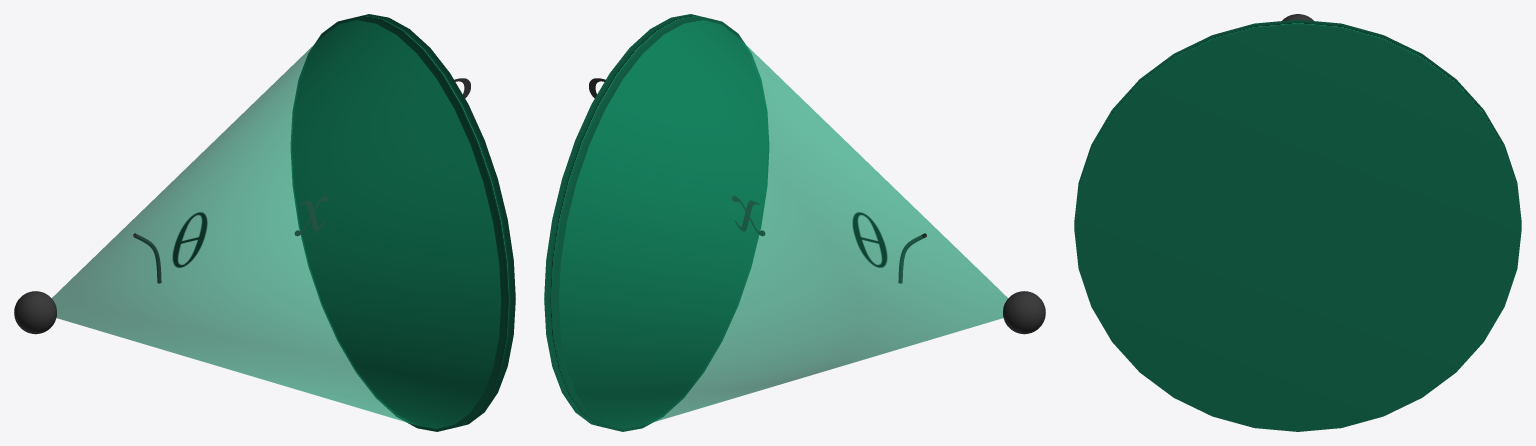
File: 20_Flux through disc with cone.glb
The picture shows the model from 3 angles, left to right: view 1: azimuth 30°, elevation 25°; view 2: azimuth 150°, elevation 25°; view 3: azimuth 270°, elevation 25°; orthographic projection. The views are drawn at different scales.
Visible parts, largest first — view 1: Cone, Cylinder.002, Sphere, Shape_3_Object 5; view 2: Cone, Cylinder.002, Sphere, Shape_3_Object 5; view 3: Cylinder.002.
Part boxes in pixels (box(x1,y1,x2,y2)): Cone: box(52, 20, 500, 428); Cylinder.002: box(291, 14, 515, 431); Sphere: box(14, 291, 56, 334); Shape_3_Object 5: box(172, 212, 207, 267); Cone: box(559, 20, 1007, 428); Cylinder.002: box(544, 14, 768, 431); Sphere: box(1003, 291, 1045, 334); Shape_3_Object 5: box(852, 212, 887, 267); Cylinder.002: box(1074, 19, 1521, 431).
Bounding box in the file's own units: 2.47 × 2 × 2.
Materials: 6 (1 with a texture image).
